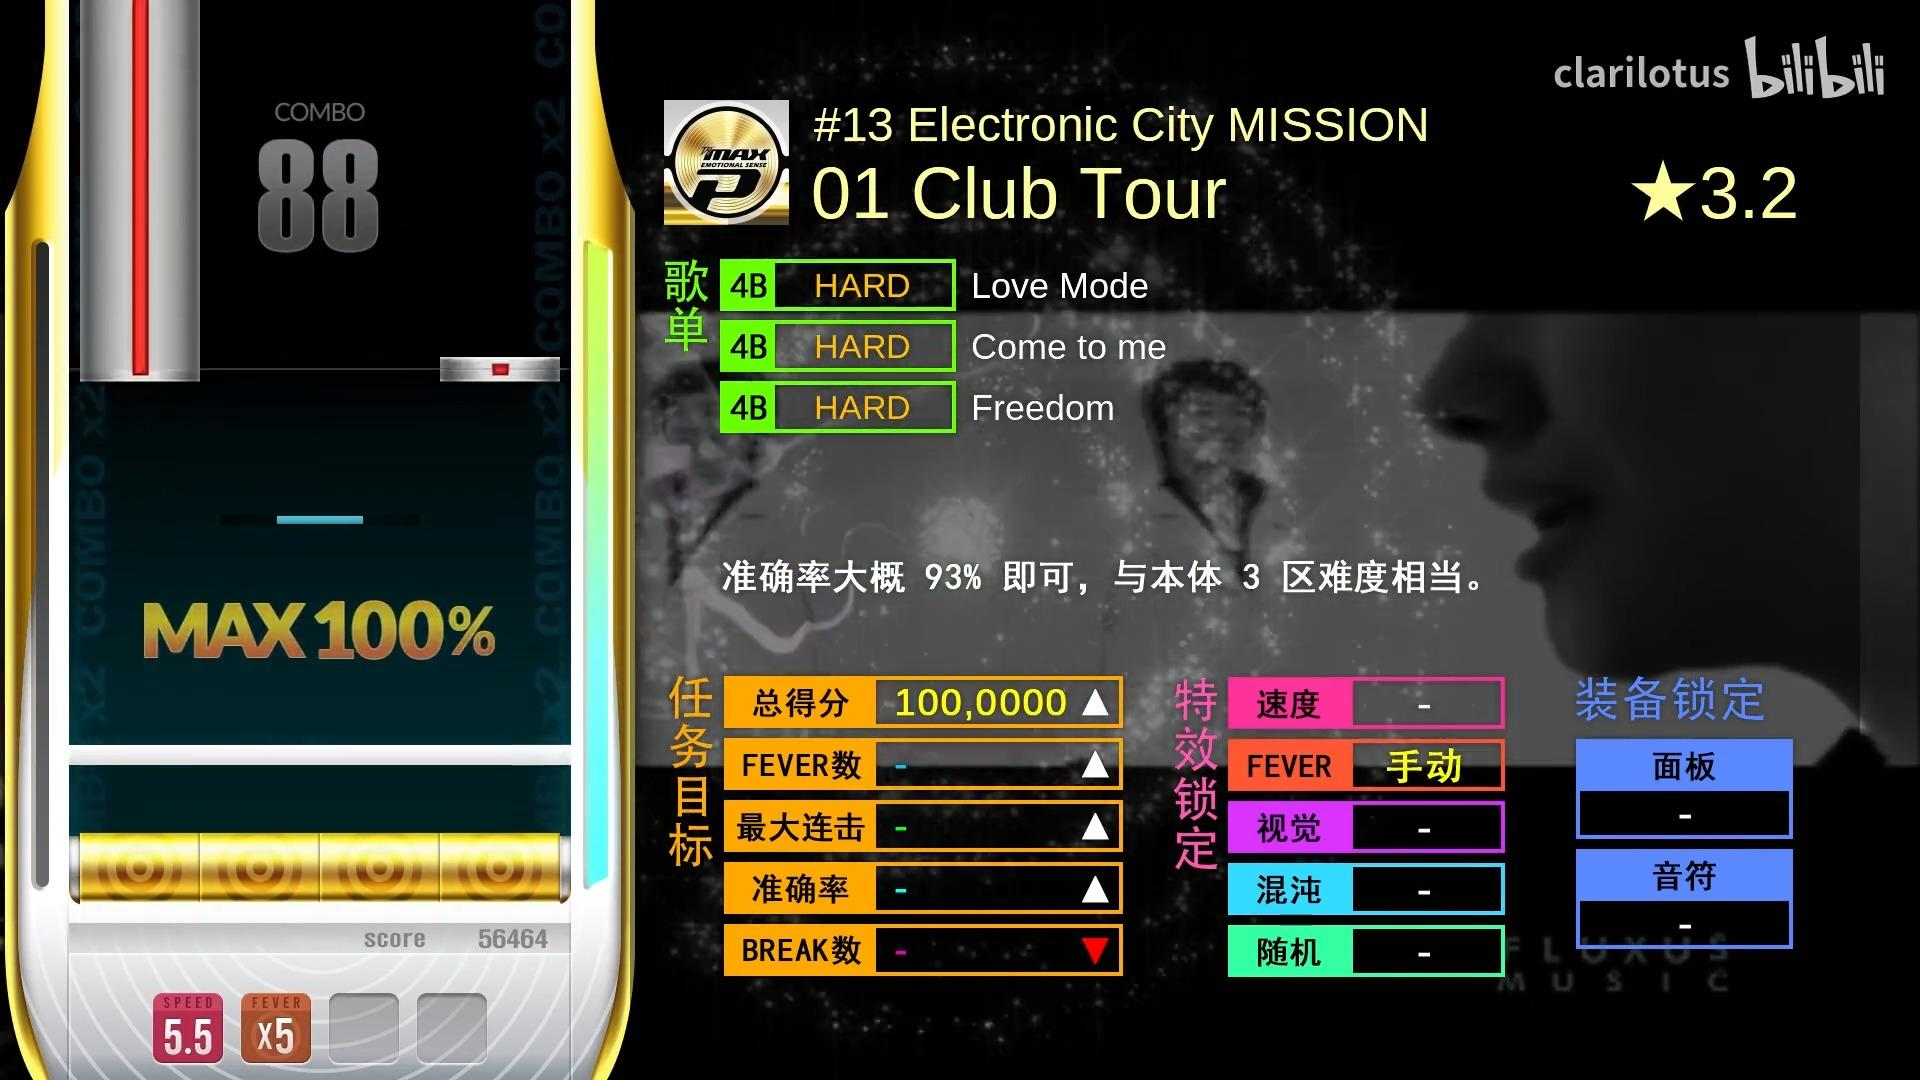hold-start: (79, 351, 200, 382)
note: (439, 356, 562, 382)
